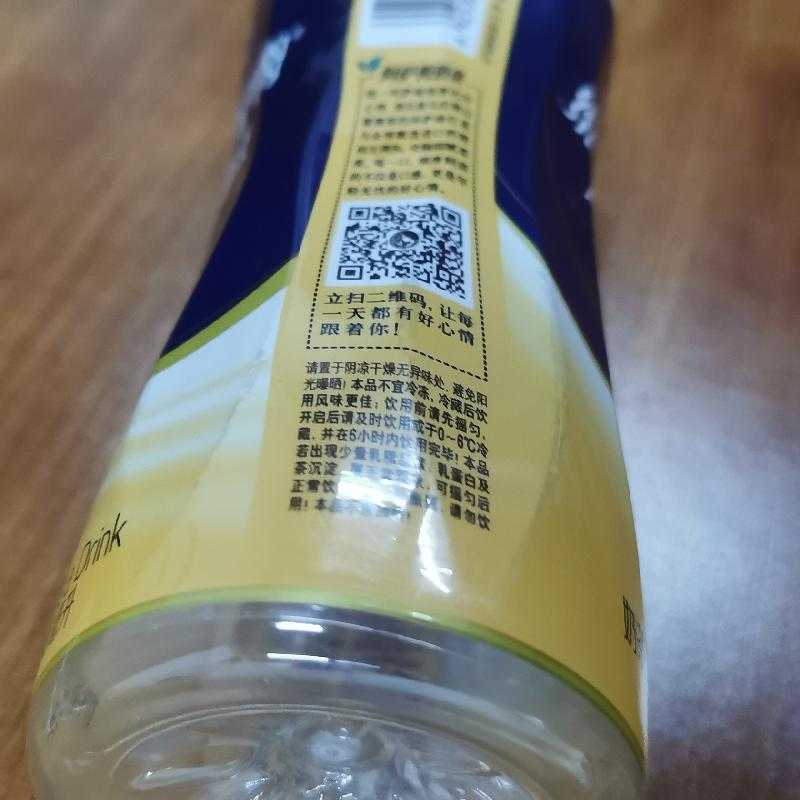bottles: (27, 5, 664, 799)
